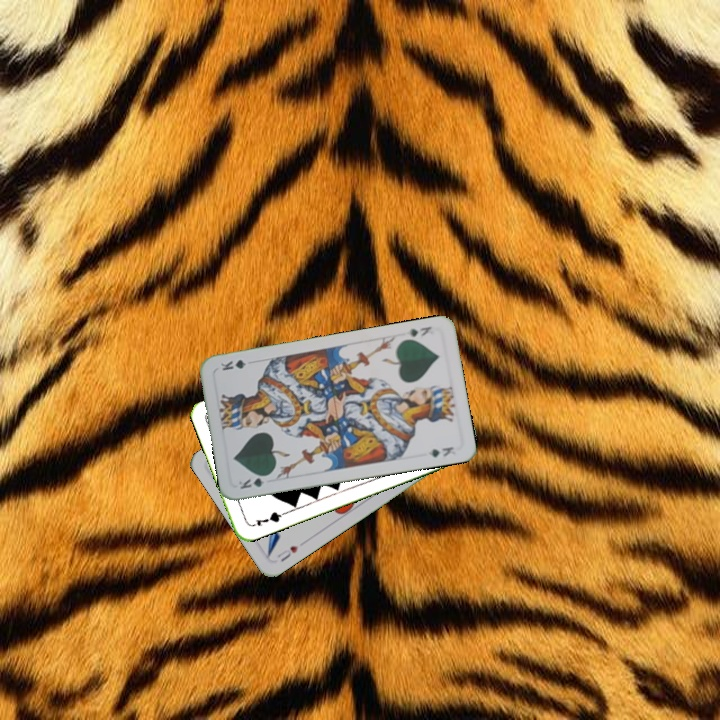G7: (247, 508, 287, 529)
GK: (234, 471, 273, 492), (405, 322, 434, 341)
HU: (273, 542, 301, 565)
